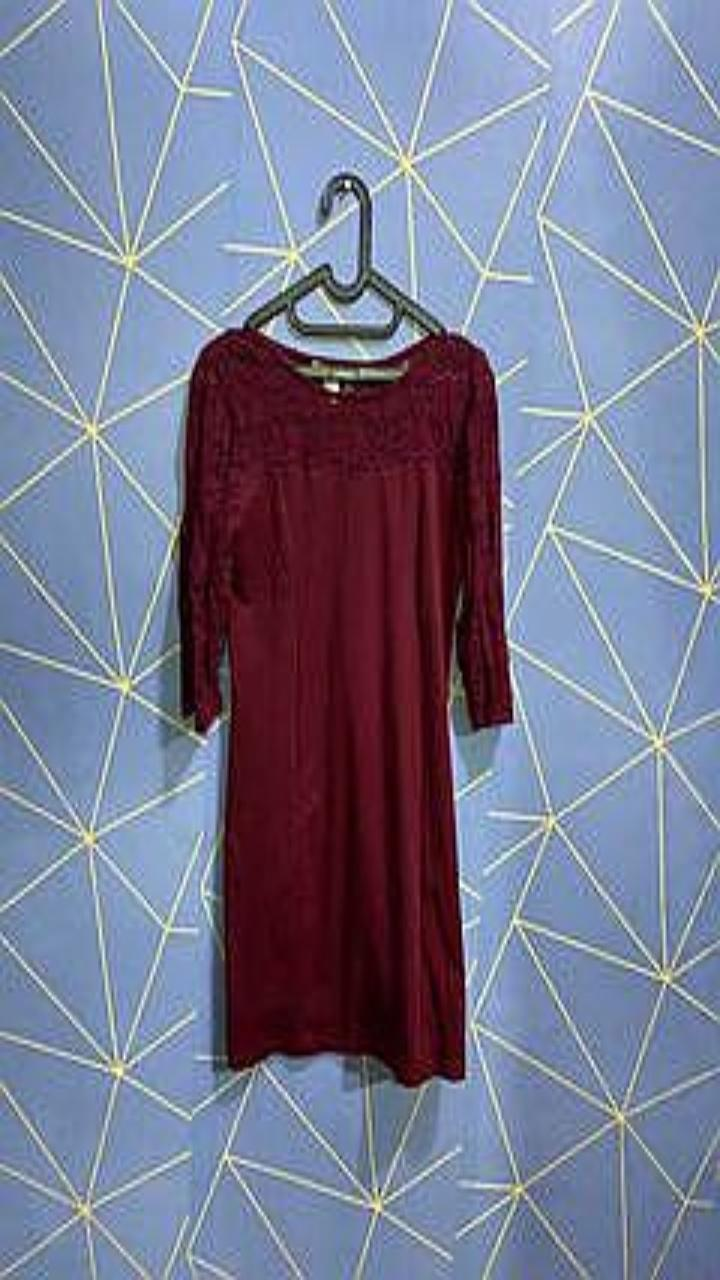Dresses: (179, 328, 513, 1084)
